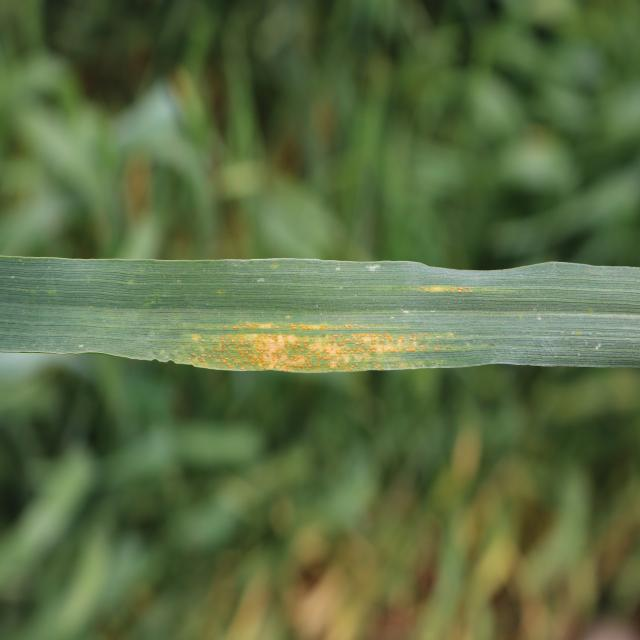Stripe Rust: (188, 319, 428, 373), (421, 280, 474, 296)
